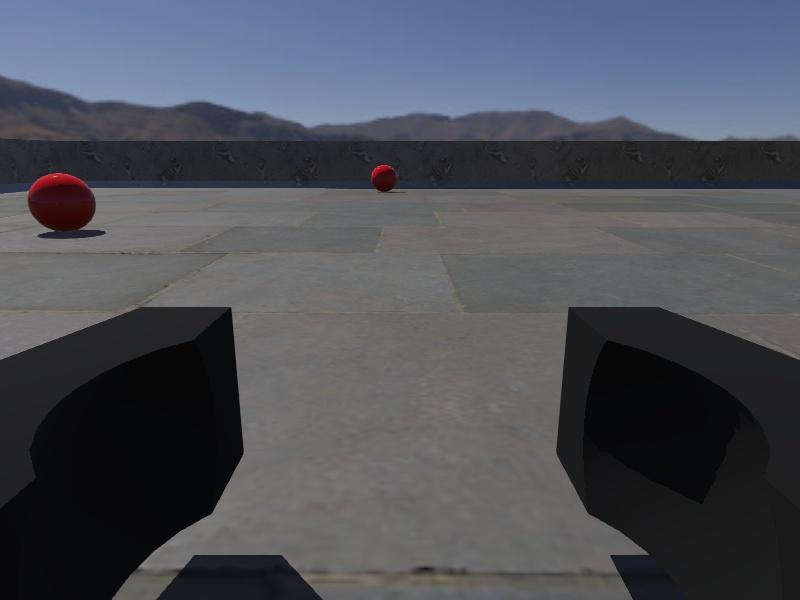red ball: (26, 172, 97, 235), (369, 164, 398, 193)
